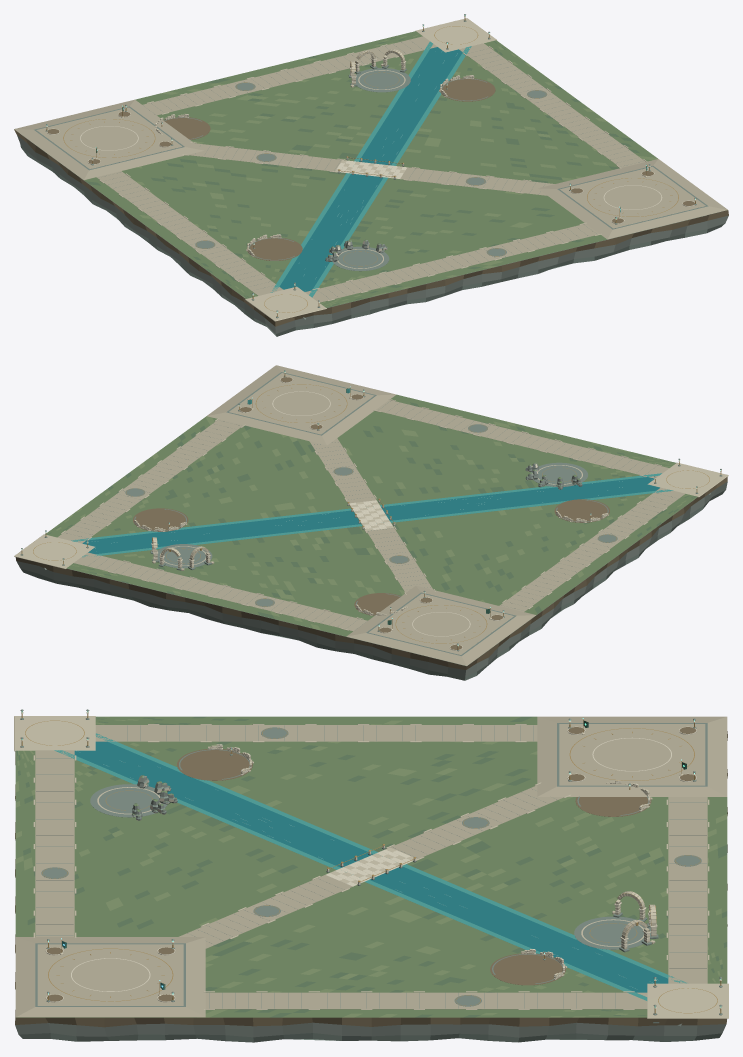
The model's file is environment.glb.
3 renders of one model, top to bottom at view 1: azimuth 30°, elevation 25°; view 2: azimuth 150°, elevation 25°; view 3: azimuth 270°, elevation 25°, orthographic. The views are drawn at different scales.
Parts seen in each view (by area): view 1: Landscape / meadow -1, Landscape / meadow 1, Landscape / stratified island, River / turquoise channel, Base blue / paving, Base green / paving, Route 1 / continuous stone bed.002, Route 1 / continuous stone bed.001, Route 2 / continuous stone bed.003, Route 2 / continuous stone bed.002, Route 0 / continuous stone bed, River crossing / corner watergate (+19 smaller); view 2: Landscape / meadow -1, Landscape / meadow 1, Landscape / stratified island, River / turquoise channel, Base blue / paving, Base green / paving, Route 2 / continuous stone bed.002, Route 1 / continuous stone bed.002, Route 2 / continuous stone bed.003, Route 1 / continuous stone bed.001, Route 0 / continuous stone bed, River crossing / corner watergate.001 (+18 smaller); view 3: Landscape / meadow -1, Landscape / meadow 1, Landscape / stratified island, River / turquoise channel, Base blue / paving, Base green / paving, Route 2 / continuous stone bed.003, Route 1 / continuous stone bed.001, Route 2 / continuous stone bed.002, Route 1 / continuous stone bed.002, Route 0 / continuous stone bed, River crossing / corner watergate.001 (+19 smaller).
Part boxes in pixels (<box>): Landscape / meadow -1: <box>319,40,657,307</box>; Landscape / meadow 1: <box>84,31,423,298</box>; Landscape / stratified island: <box>14,129,728,336</box>; River / turquoise channel: <box>279,47,462,291</box>; Base blue / paving: <box>560,166,705,228</box>; Base green / paving: <box>36,107,181,168</box>; Route 1 / continuous stone bed.002: <box>305,223,599,302</box>; Route 1 / continuous stone bed.001: <box>96,171,283,295</box>; Route 2 / continuous stone bed.003: <box>459,43,645,167</box>; Route 2 / continuous stone bed.002: <box>142,36,437,115</box>; Route 0 / continuous stone bed: <box>188,143,554,195</box>; River crossing / corner watergate: <box>245,286,326,321</box>; Landscape / meadow -1: <box>45,394,675,537</box>; Landscape / meadow 1: <box>66,493,697,636</box>; Landscape / stratified island: <box>15,477,727,680</box>; River / turquoise channel: <box>82,477,659,554</box>; Base blue / paving: <box>229,373,374,434</box>; Base green / paving: <box>369,593,513,654</box>; Route 2 / continuous stone bed.002: <box>74,552,367,631</box>; Route 1 / continuous stone bed.002: <box>375,400,669,478</box>; Route 2 / continuous stone bed.003: <box>57,419,243,543</box>; Route 1 / continuous stone bed.001: <box>499,487,685,611</box>; Route 0 / continuous stone bed: <box>309,438,433,592</box>; River crossing / corner watergate.001: <box>14,534,94,569</box>; Landscape / meadow -1: <box>15,750,647,1017</box>; Landscape / meadow 1: <box>95,716,727,983</box>; Landscape / stratified island: <box>15,731,727,1042</box>; River / turquoise channel: <box>74,741,668,992</box>; Base blue / paving: <box>37,944,183,1005</box>; Base green / paving: <box>559,724,705,785</box>; Route 2 / continuous stone bed.003: <box>205,992,647,1009</box>; Route 1 / continuous stone bed.001: <box>95,725,537,741</box>; Route 2 / continuous stone bed.002: <box>668,797,707,983</box>; Route 1 / continuous stone bed.002: <box>35,750,74,936</box>; Route 0 / continuous stone bed: <box>179,785,563,948</box>; River crossing / corner watergate.001: <box>647,983,728,1018</box>.
Bounding box in the file's own units: 218 × 17.6 × 218.
